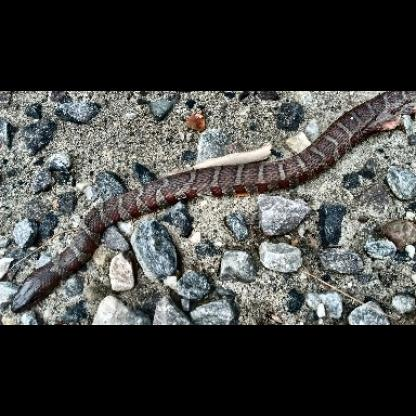Snake: (5, 89, 414, 312)
